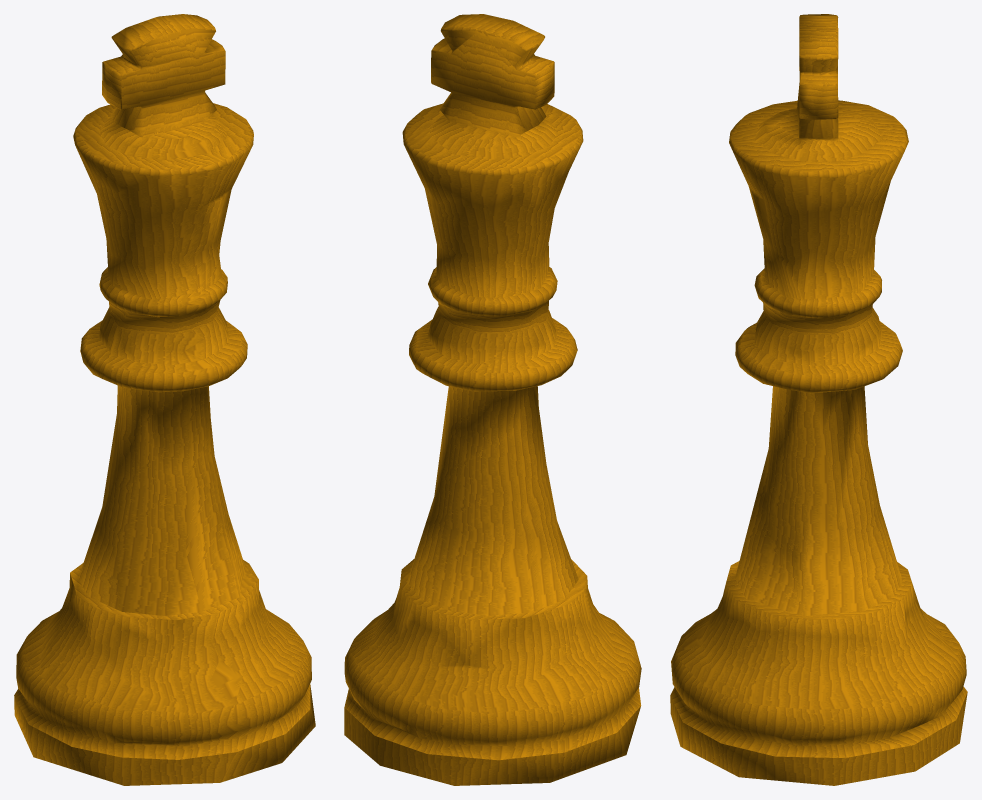
The model's file is King_low_uv.obj.
3 views of the same model, side by side, from view 1: azimuth 30°, elevation 25°; view 2: azimuth 150°, elevation 25°; view 3: azimuth 270°, elevation 25° (orthographic).
Visible parts, largest first — view 1: King; view 2: King; view 3: King.
Boxes of the visible parts, x1,y1,x2,y2 form: King: (14, 14, 315, 785); King: (344, 14, 641, 785); King: (670, 14, 967, 785).
Bounding box in the file's own units: 1.2 × 3.07 × 1.19.
